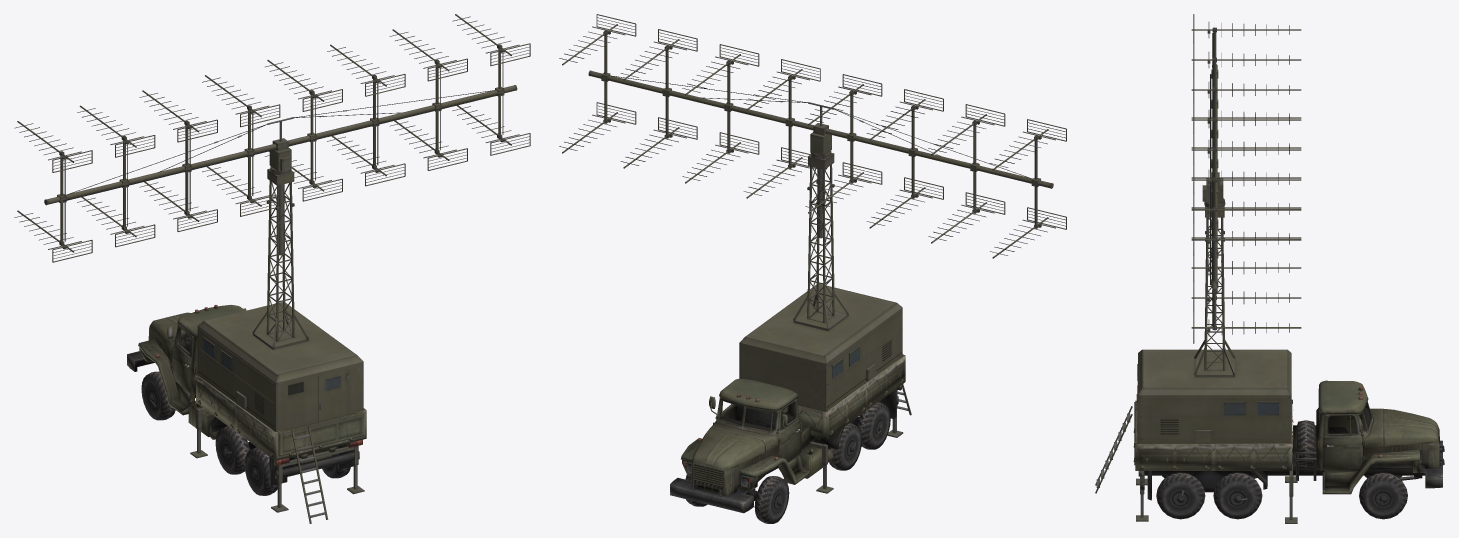
3 views of the same model, side by side, from view 1: azimuth 30°, elevation 25°; view 2: azimuth 150°, elevation 25°; view 3: azimuth 270°, elevation 25° (orthographic).
Visible parts, largest first — view 1: body|P18_atlas, radar|P18_atlas, body|Ural; view 2: body|Ural, radar|P18_atlas, body|P18_atlas; view 3: body|Ural, body|P18_atlas, radar|P18_atlas.
Part boxes in pixels (x1=…): body|P18_atlas: x1=190, y1=168, x2=364, y2=523; radar|P18_atlas: x1=14, y1=14, x2=530, y2=262; body|Ural: x1=127, y1=305, x2=366, y2=495; body|Ural: x1=670, y1=354, x2=905, y2=523; radar|P18_atlas: x1=559, y1=14, x2=1066, y2=258; body|P18_atlas: x1=739, y1=153, x2=911, y2=493; body|Ural: x1=1133, y1=380, x2=1444, y2=519; body|P18_atlas: x1=1095, y1=202, x2=1297, y2=523; radar|P18_atlas: x1=1191, y1=14, x2=1301, y2=343.
Size of the model in its own units: 12.84 by 9.73 by 8.28.
Materials: 3 (3 with a texture image).
